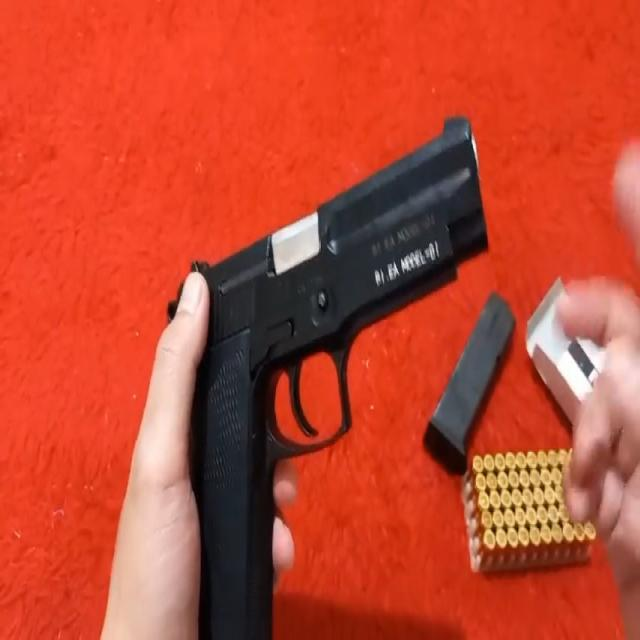handgun: (157, 99, 502, 640)
